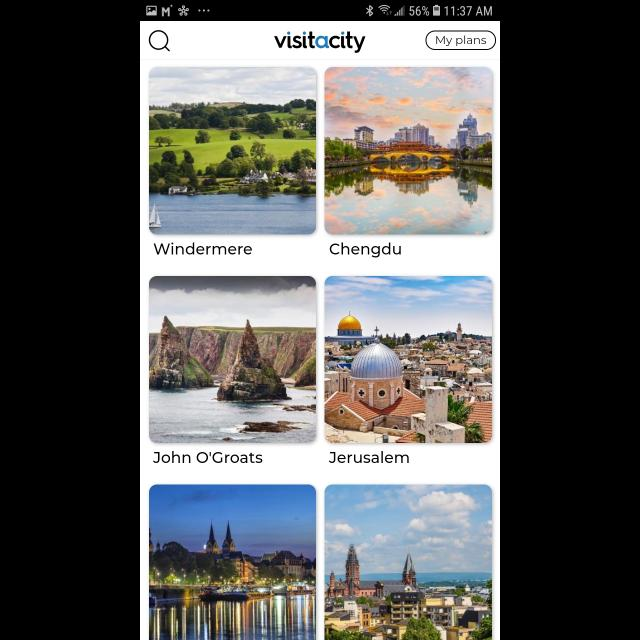icon: (149, 30, 171, 52)
image: (324, 67, 492, 235), (324, 276, 492, 444), (150, 67, 316, 235), (150, 276, 316, 444), (324, 484, 492, 640), (150, 484, 316, 640), (274, 31, 366, 53)
text: (153, 451, 263, 464), (154, 242, 252, 255), (330, 242, 402, 258), (329, 451, 409, 464)
textbutton: (426, 31, 496, 51)
uppertaskbar: (140, 1, 500, 22)
